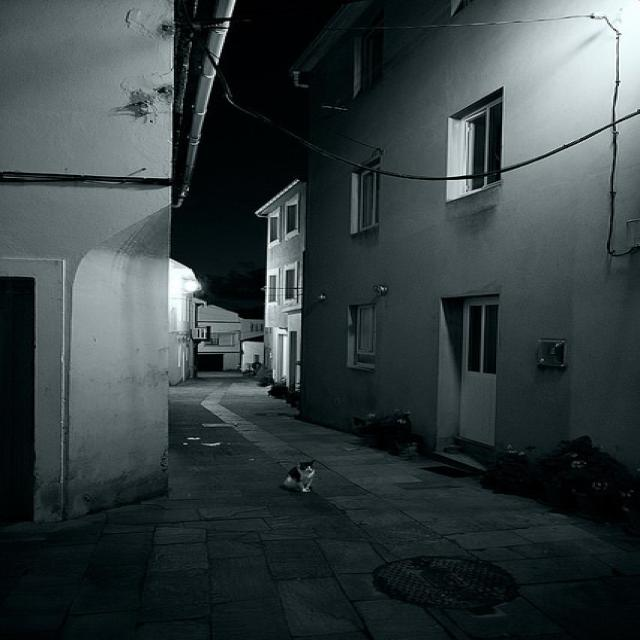Cat: (272, 455, 324, 512)
